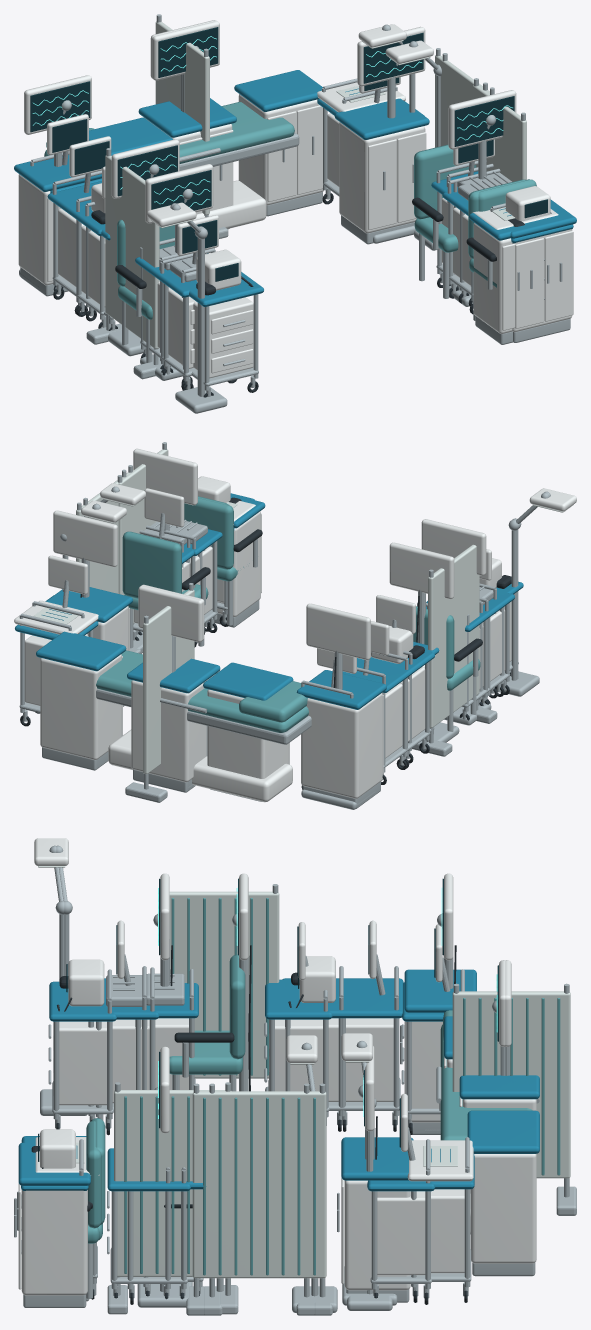
The model's file is equipment-upgrades.glb.
3 views of the same model, one above another, from view 1: azimuth 30°, elevation 25°; view 2: azimuth 150°, elevation 25°; view 3: azimuth 270°, elevation 25° (orthographic). The views are drawn at different scales.
Parts seen in each view (by area): view 1: Powder-coated storage.002, Matte acoustic panel.004, Powder-coated storage.004, Powder-coated storage.007, Drawer cabinet.007, Powder-coated storage, Powder-coated storage.008, Matte acoustic panel.003, Upholstered examination surface, Thick upholstered seat, Rounded cabinet top.004, Rounded cabinet top.002 (+63 smaller); view 2: Powder-coated storage.008, Powder-coated storage.004, Matte acoustic panel.004, Upholstered examination surface, Matte acoustic panel.003, Powder-coated storage.006, Thick upholstered seat, Powder-coated storage.001, Examination base, Medical display housing.006, Medical display housing.005, Medical display housing.001 (+51 smaller); view 3: Matte acoustic panel.001, Matte acoustic panel.002, Matte acoustic panel.003, Matte acoustic panel.004, Matte acoustic panel, Powder-coated storage.007, Powder-coated storage.004, Drawer cabinet.007, Drawer cabinet.002, Fabric pleat.001, Drawer cabinet.013, Powder-coated storage.002 (+66 smaller).
Part boxes in pixels (left/top/right/bottom): Powder-coated storage.002: left=339, top=122, right=426, bottom=233; Matte acoustic panel.004: left=105, top=155, right=159, bottom=348; Powder-coated storage.004: left=238, top=94, right=323, bottom=205; Powder-coated storage.007: left=512, top=229, right=573, bottom=332; Drawer cabinet.007: left=190, top=249, right=253, bottom=378; Powder-coated storage: left=473, top=222, right=544, bottom=333; Powder-coated storage.008: left=18, top=174, right=61, bottom=285; Matte acoustic panel.003: left=155, top=21, right=209, bottom=215; Upholstered examination surface: left=44, top=102, right=294, bottom=163; Thick upholstered seat: left=414, top=144, right=476, bottom=252; Rounded cabinet top.004: left=234, top=70, right=322, bottom=111; Rounded cabinet top.002: left=334, top=98, right=429, bottom=139; Powder-coated storage.008: left=301, top=693, right=383, bottom=798; Powder-coated storage.004: left=40, top=654, right=122, bottom=759; Matte acoustic panel.004: left=428, top=544, right=479, bottom=727; Upholstered examination surface: left=96, top=650, right=308, bottom=732; Matte acoustic panel.003: left=143, top=590, right=194, bottom=774; Powder-coated storage.006: left=131, top=680, right=205, bottom=782; Thick upholstered seat: left=122, top=531, right=208, bottom=610; Powder-coated storage.001: left=207, top=689, right=289, bottom=778; Examination base: left=108, top=729, right=292, bottom=802; Medical display housing.006: left=306, top=603, right=370, bottom=660; Medical display housing.005: left=53, top=510, right=117, bottom=567; Medical display housing.001: left=389, top=542, right=454, bottom=599; Matte acoustic panel.001: left=192, top=1091, right=308, bottom=1278; Matte acoustic panel.002: left=210, top=1091, right=326, bottom=1278; Matte acoustic panel.003: left=452, top=991, right=570, bottom=1178; Matte acoustic panel.004: left=169, top=891, right=279, bottom=1078; Matte acoustic panel: left=114, top=1090, right=231, bottom=1276; Powder-coated storage.007: left=18, top=1183, right=87, bottom=1295; Powder-coated storage.004: left=470, top=1154, right=536, bottom=1263; Drawer cabinet.007: left=53, top=959, right=106, bottom=1105; Drawer cabinet.002: left=407, top=1140, right=473, bottom=1273; Fabric pleat.001: left=203, top=1097, right=300, bottom=1275; Drawer cabinet.013: left=377, top=1093, right=425, bottom=1275; Powder-coated storage.002: left=341, top=1177, right=410, bottom=1290.
Bounding box in the file's own units: 3.6 × 1.71 × 3.57.
